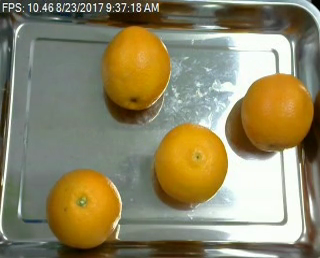Orange: (44, 169, 121, 248), (154, 123, 228, 204), (239, 73, 312, 152), (101, 26, 171, 108)
